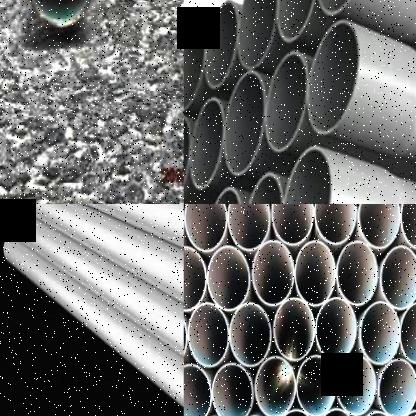pipe: (305, 18, 363, 140), (220, 68, 264, 178), (262, 50, 307, 154), (186, 98, 223, 190), (201, 0, 238, 92), (233, 0, 281, 69), (280, 143, 333, 204), (207, 245, 250, 310), (229, 302, 272, 366), (252, 240, 294, 305), (188, 302, 229, 368), (337, 241, 378, 306), (295, 241, 336, 306), (315, 297, 357, 360), (274, 298, 315, 361), (336, 353, 376, 416), (254, 356, 296, 416), (361, 301, 400, 365), (296, 354, 336, 416), (184, 19, 209, 113), (381, 245, 416, 309), (211, 362, 252, 416), (378, 357, 416, 415), (272, 0, 319, 44), (227, 204, 271, 251), (185, 204, 226, 252), (358, 204, 400, 249), (28, 0, 92, 28), (314, 204, 357, 245), (271, 204, 313, 244), (184, 245, 207, 311), (184, 363, 210, 416), (242, 171, 283, 204), (400, 301, 416, 363), (400, 204, 416, 251)
